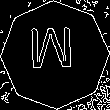M_S: (31, 29, 79, 81)
